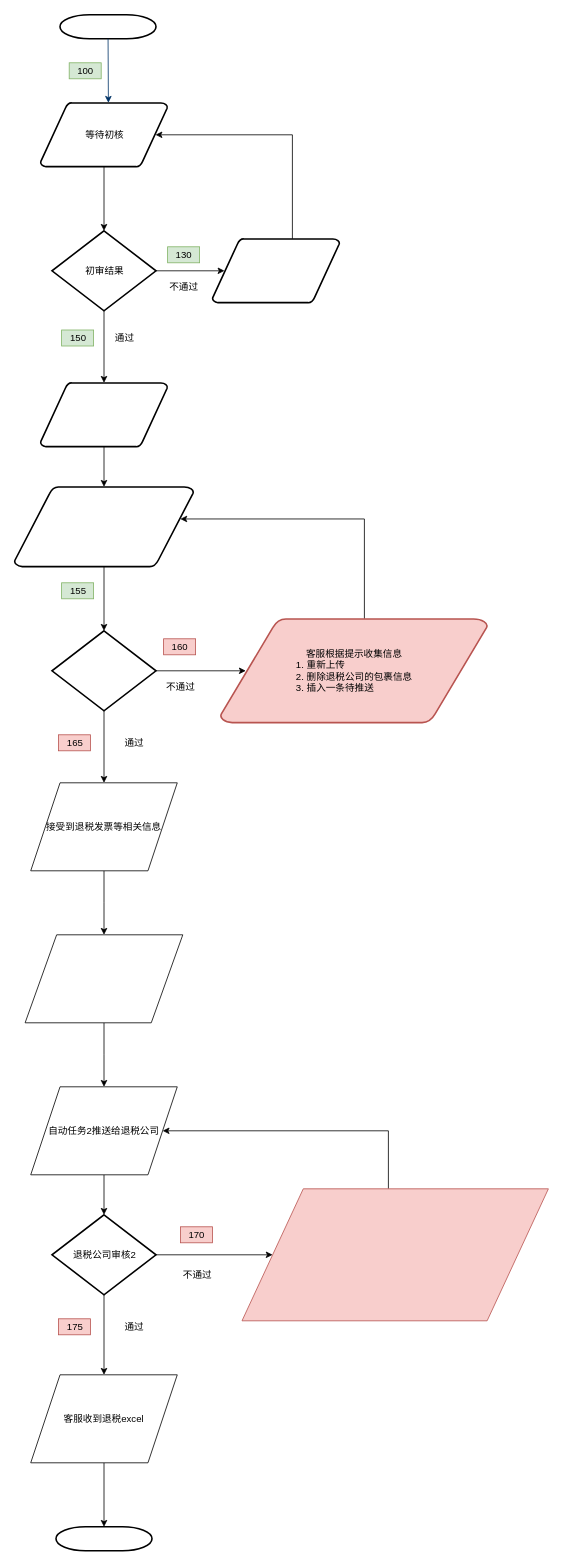
The diagram is 562 pixels wide and 1565 high, and some of its shapes have lost their labels. Each missing label, with the box of its shape:
end: (55, 1526, 152, 1551)
客服根据提示收集信息 1. 重新上传 2. 删除退税公司的包裹信息（同一个删除接口是否可行） 3. 插入一条待推送: (241, 1188, 548, 1321)
提交包裹: (59, 14, 156, 39)
提交回国订单: (39, 382, 168, 447)
自动任务1传输数据给到退税公司: (13, 486, 194, 567)
订单流程 渠道不同上传不同的面单等附件: (24, 934, 183, 1023)
退税公司审核1: (51, 630, 156, 711)
重新上传数据: (211, 238, 340, 303)
